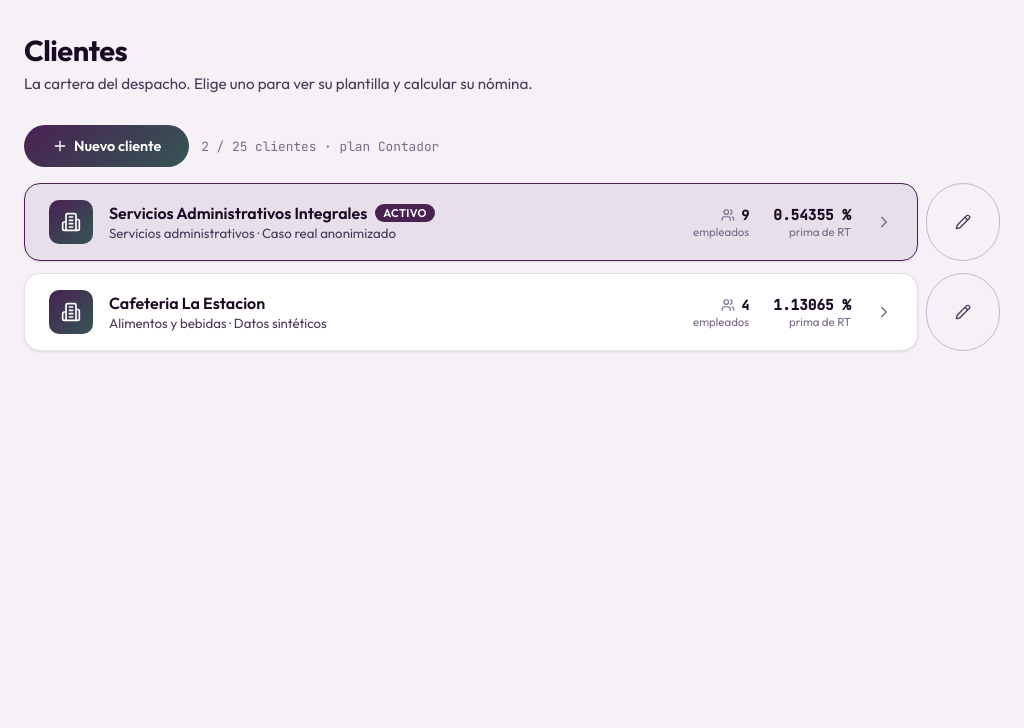
Test case: editar un cliente desde la lista (C-01) › "Editar" abre el modal con los datos del cliente y el id bloqueado
Click the button named "Editar Cafeteria La Estacion": point(963, 312) [926,273,1000,351]
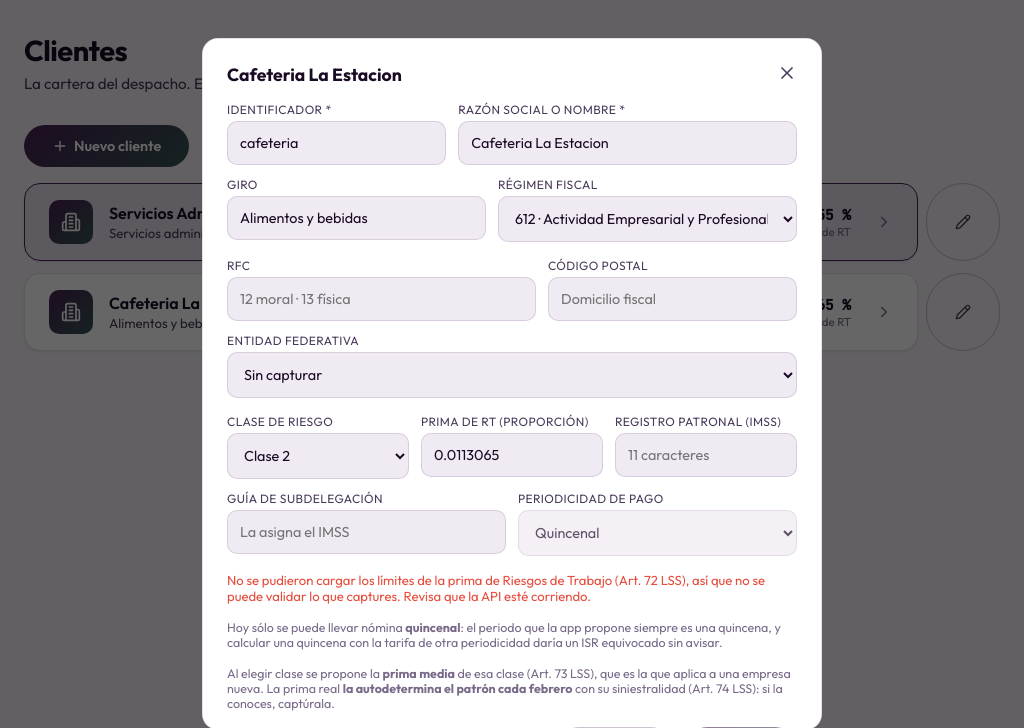
Check: the field labelled "Identificador *" holds "cafeteria", box [227,121,446,165]
Check: the field labelled "Identificador *" is disabled, box [227,121,446,165]
